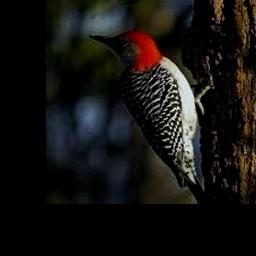Woodpecker: (89, 30, 209, 204)
